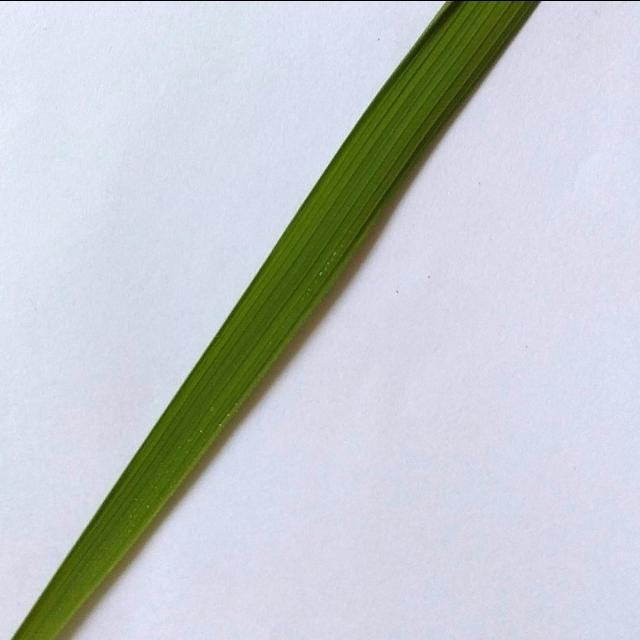healthy: (1, 0, 568, 640)
